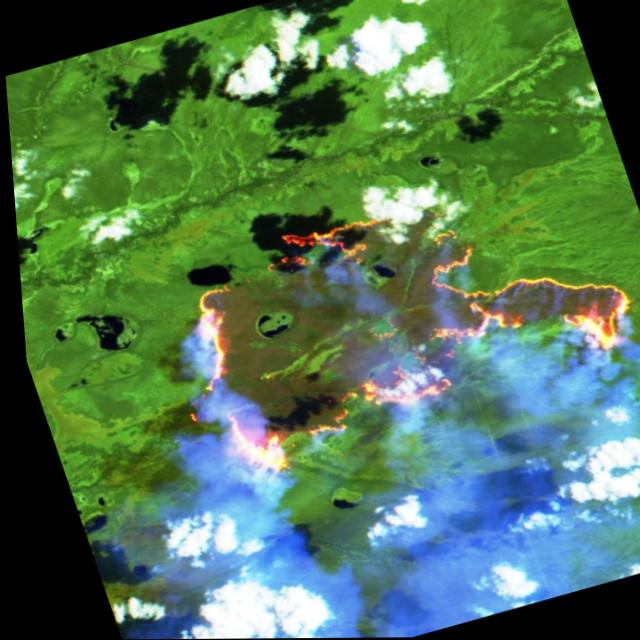fire: (124, 145, 640, 493)
